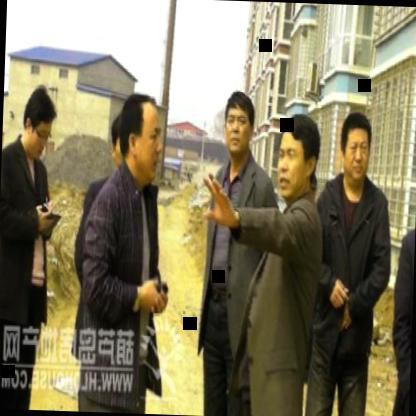head: (113, 88, 164, 189), (272, 108, 324, 200), (336, 107, 374, 185), (21, 84, 56, 162), (220, 90, 255, 162)
